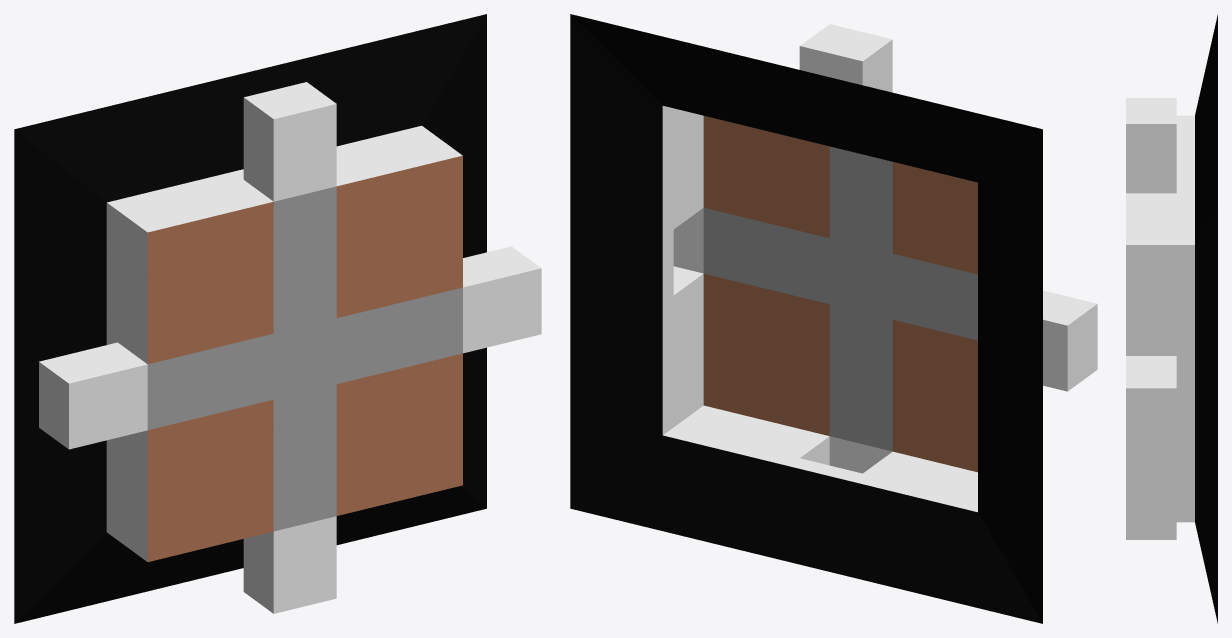
File: arena.fbx
3 views of the same model, side by side, from view 1: azimuth 30°, elevation 25°; view 2: azimuth 150°, elevation 25°; view 3: azimuth 270°, elevation 25° (orthographic). The views are drawn at different scales.
Parts seen in each view (by area): view 1: arena; view 2: arena; view 3: arena.
Boxes of the visible parts, bbox=[...] form: arena: bbox=[14, 14, 541, 623]; arena: bbox=[570, 14, 1097, 623]; arena: bbox=[1126, 14, 1217, 623].
Size of the model in its own units: 6000 by 6000 by 1200.
